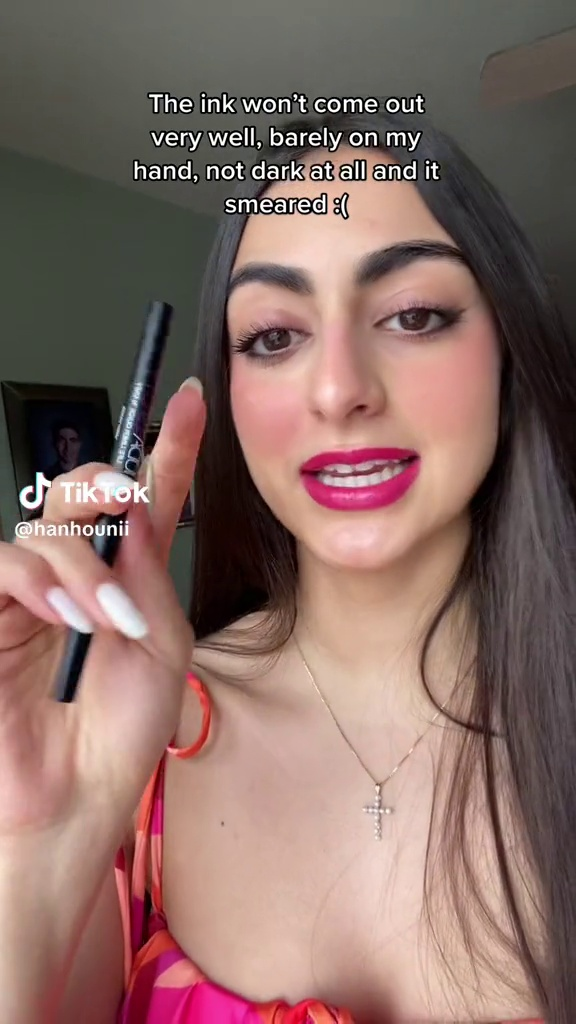train' :'yolo_data/train/images',: (60, 288, 175, 708)
